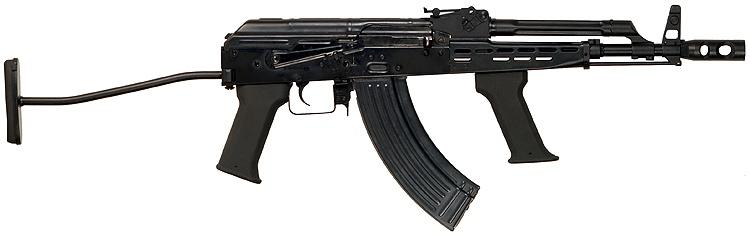blood: (3, 0, 750, 236)
